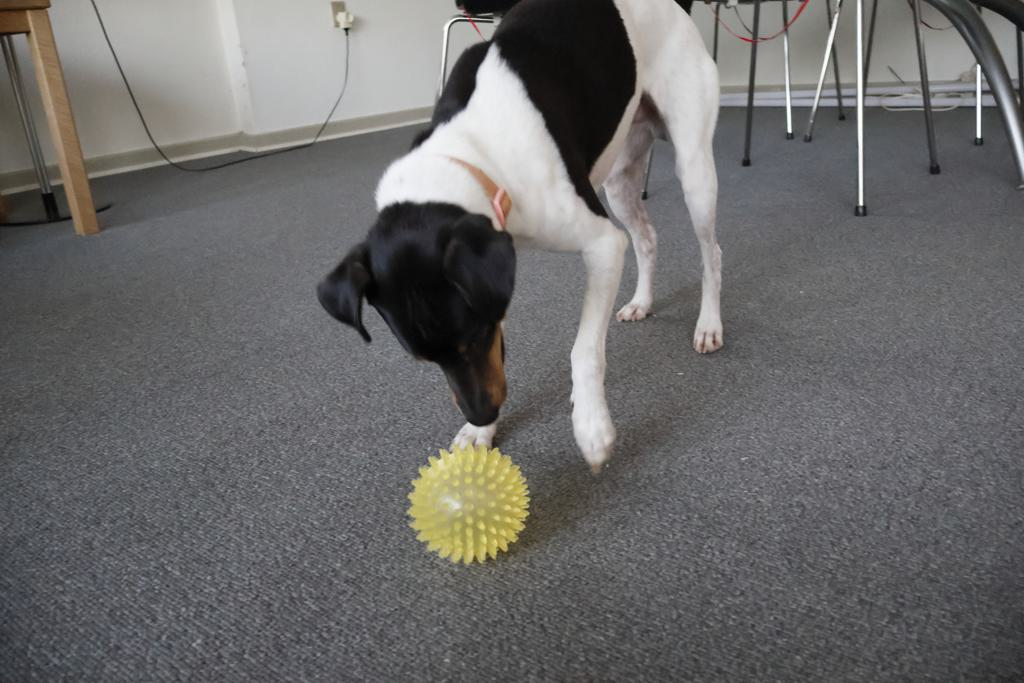Dog: (307, 0, 735, 507)
